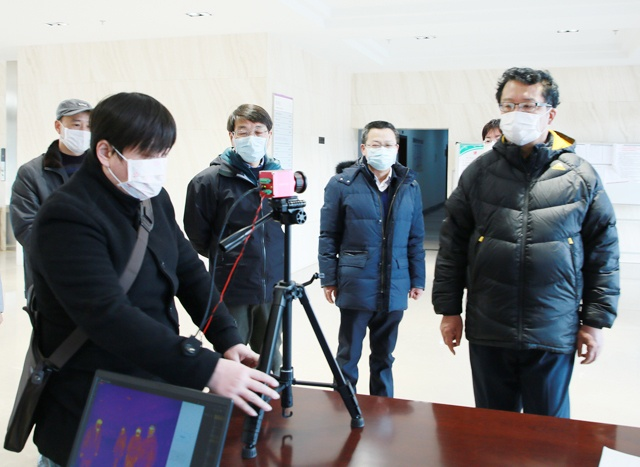correctlyWear: (97, 130, 170, 201), (495, 95, 557, 146), (228, 123, 274, 164), (54, 113, 94, 156), (360, 135, 401, 171)
